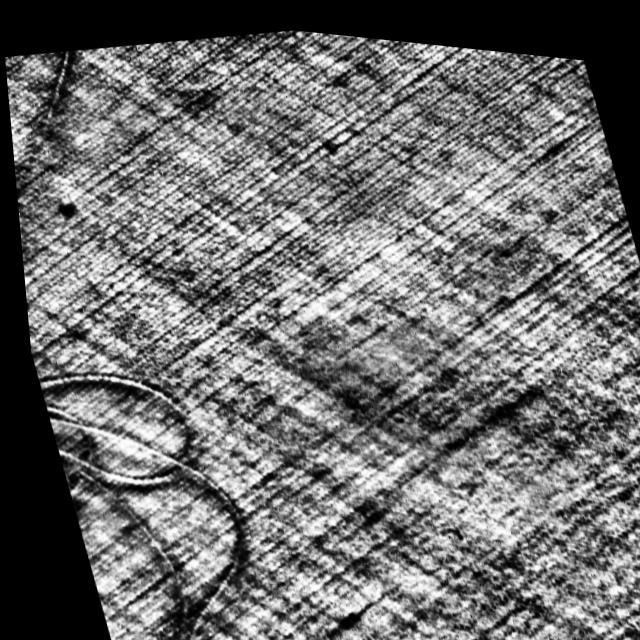Stitch: (28, 340, 280, 640), (3, 43, 122, 263)
